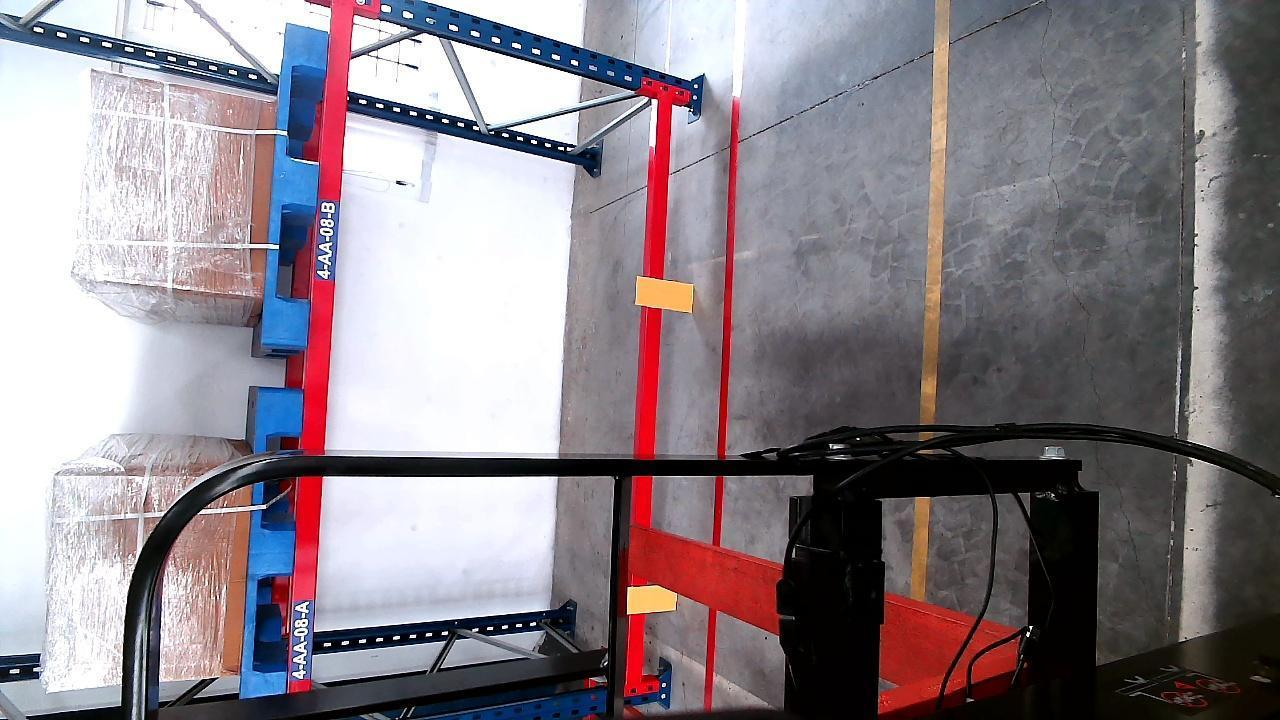h_rack: (285, 10, 355, 690), (627, 104, 673, 688)
orange_strip: (638, 278, 694, 311), (626, 585, 678, 614)
red_line: (704, 92, 744, 717)
small_pallet: (265, 26, 325, 349), (242, 387, 300, 698)
yellow_line: (910, 1, 951, 602)
